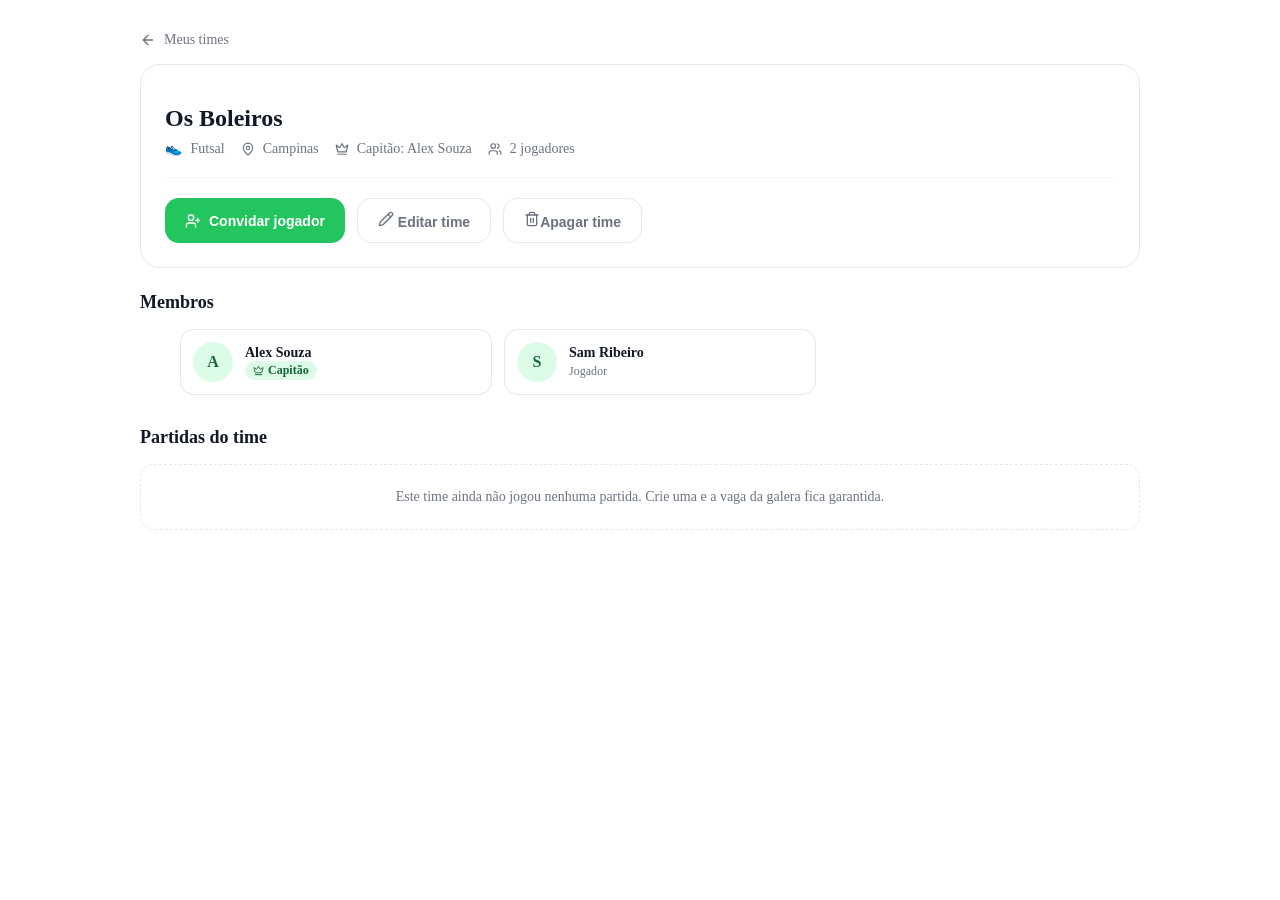
Scenario: Página do time › Ações do capitão › avisa que a pessoa precisa ter conta
Click the button "Convidar jogador" at (255, 221), box top-left (165, 198), bottom-right (345, 243)
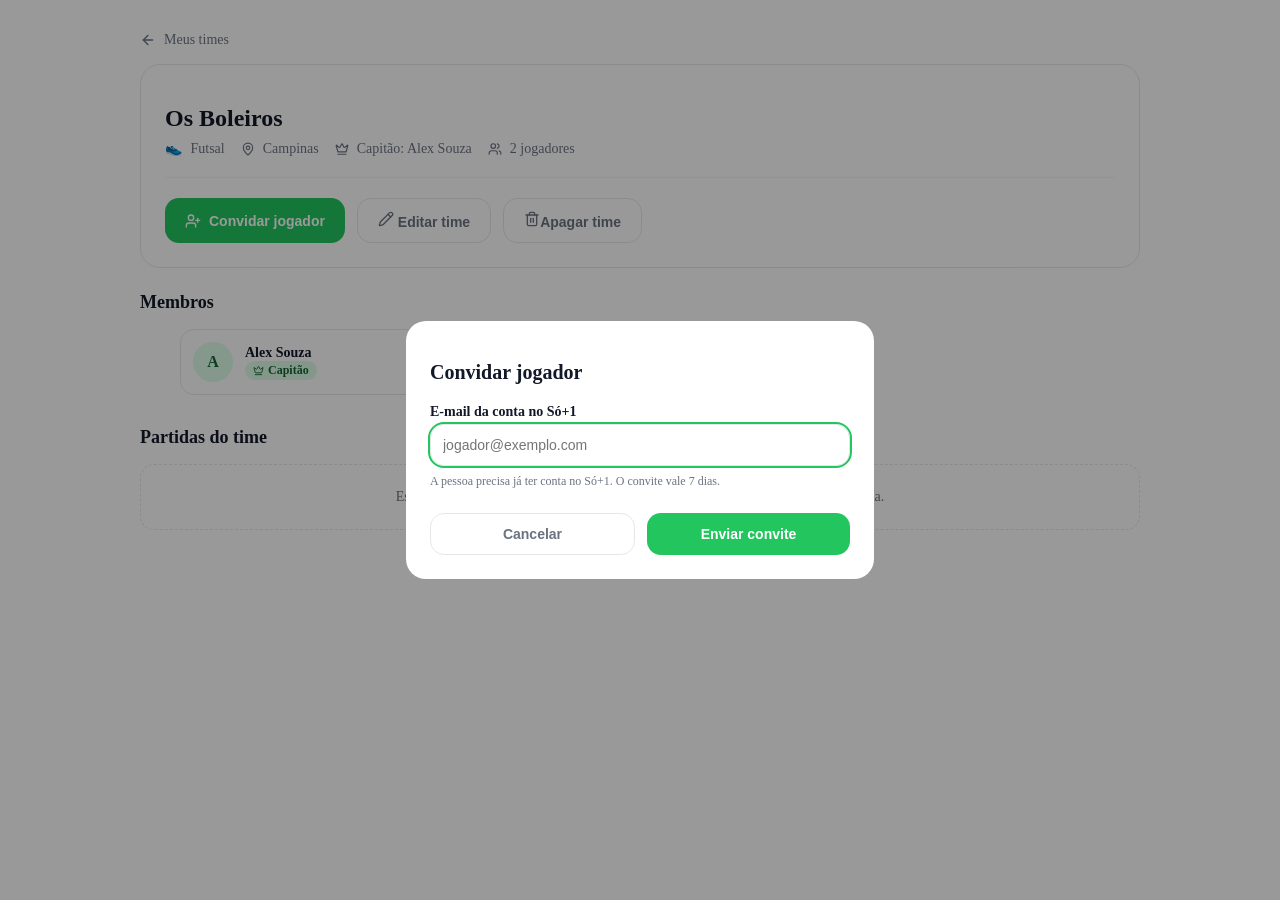
Check: the text "precisa já ter conta no Só+1" is shown, box top-left (430, 474), bottom-right (720, 488)
